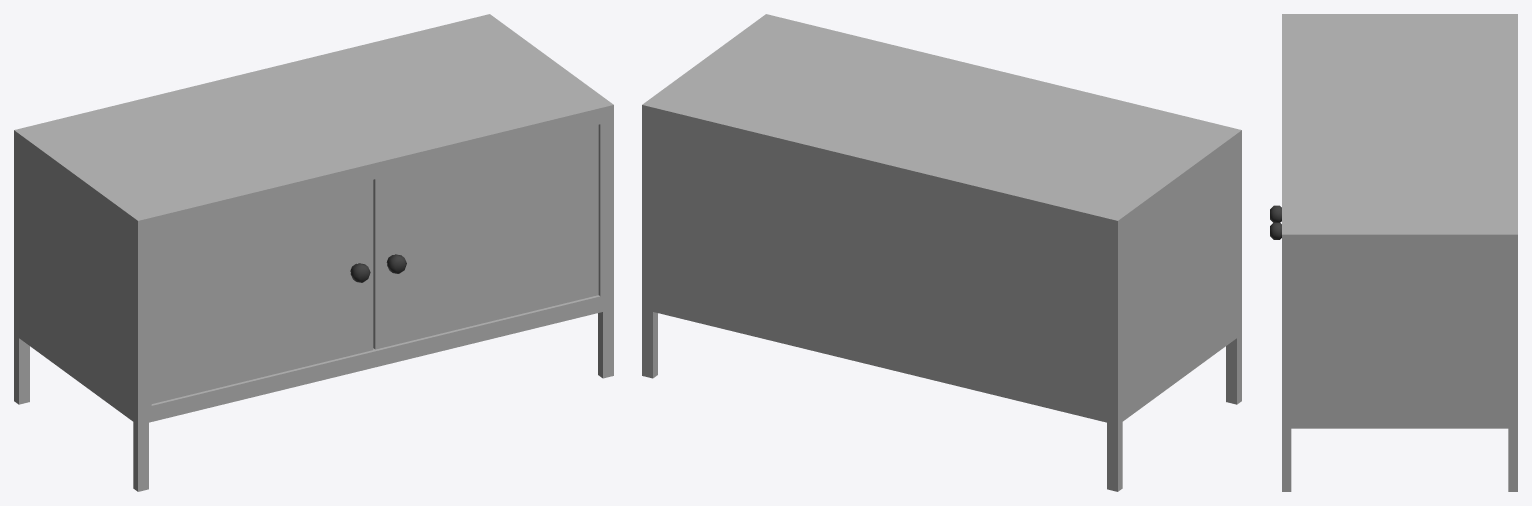
Rendered from Cabinet_01.fbx.
3 renders of one model, left to right at view 1: azimuth 30°, elevation 25°; view 2: azimuth 150°, elevation 25°; view 3: azimuth 270°, elevation 25°, orthographic. The views are drawn at different scales.
Visible parts, largest first — view 1: Cabinet_01, Cabinet_01_Door_L, Cabinet_01_Door_R; view 2: Cabinet_01; view 3: Cabinet_01.
Boxes of the visible parts, x1=… form: Cabinet_01: x1=14, y1=14, x2=613, y2=491; Cabinet_01_Door_L: x1=373, y1=124, x2=598, y2=349; Cabinet_01_Door_R: x1=151, y1=180, x2=373, y2=403; Cabinet_01: x1=642, y1=14, x2=1241, y2=491; Cabinet_01: x1=1282, y1=14, x2=1517, y2=491.
Size of the model in its own units: 1.24 by 0.6734 by 0.5873.
